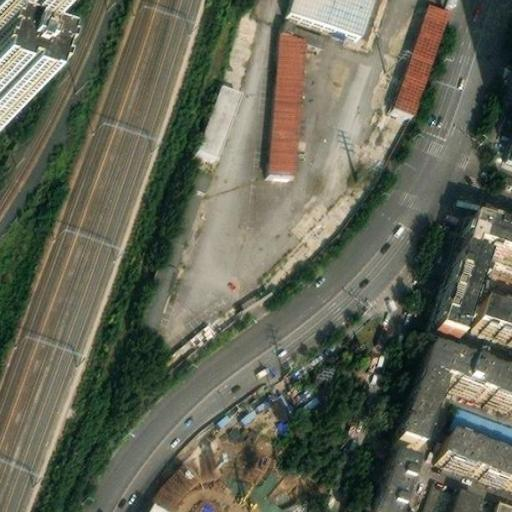building: (385, 334, 512, 437), (270, 12, 326, 167), (425, 233, 486, 336), (396, 0, 448, 104), (158, 162, 210, 260), (442, 419, 512, 470), (134, 253, 179, 330), (196, 76, 241, 150), (361, 456, 408, 512), (456, 390, 512, 434), (468, 302, 512, 338), (450, 483, 485, 512), (498, 129, 512, 163), (488, 498, 511, 512)
